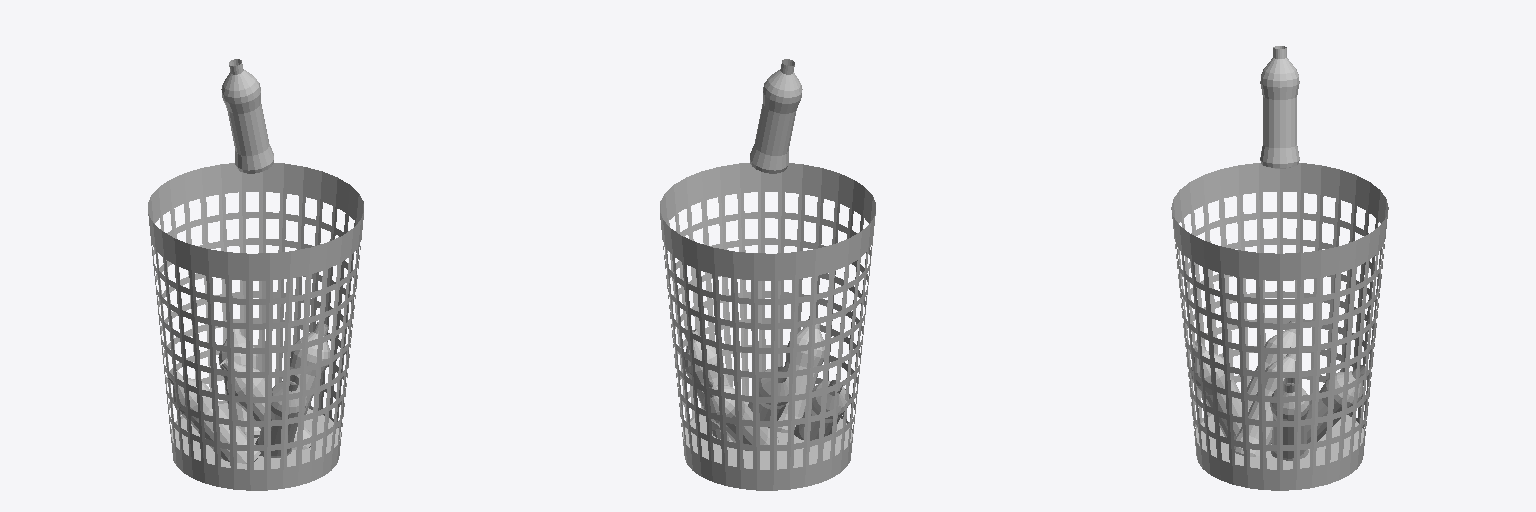
Rendered from DustbinWithCan_000016.obj.
3 views of the same model, side by side, from view 1: azimuth 30°, elevation 25°; view 2: azimuth 150°, elevation 25°; view 3: azimuth 270°, elevation 25° (orthographic).
Parts seen in each view (by area): view 1: Cylinder, Plane.006, Plane.005, Plane.001, Plane.004, Plane.003, Plane.002; view 2: Cylinder, Plane.006, Plane.001, Plane.002, Plane.005, Plane.003, Plane.004; view 3: Cylinder, Plane.006, Plane.001, Plane.003, Plane.004, Plane.002, Plane.005.
Boxes of the visible parts, x1=… form: Cylinder: x1=148, y1=163, x2=363, y2=490; Plane.006: x1=221, y1=59, x2=273, y2=173; Plane.005: x1=167, y1=369, x2=260, y2=463; Plane.001: x1=255, y1=375, x2=306, y2=457; Plane.004: x1=220, y1=357, x2=311, y2=449; Plane.003: x1=282, y1=322, x2=329, y2=414; Plane.002: x1=218, y1=329, x2=260, y2=437; Cylinder: x1=660, y1=163, x2=875, y2=490; Plane.006: x1=750, y1=59, x2=802, y2=173; Plane.001: x1=777, y1=316, x2=824, y2=432; Plane.002: x1=702, y1=381, x2=778, y2=450; Plane.005: x1=794, y1=380, x2=848, y2=440; Plane.003: x1=684, y1=329, x2=731, y2=440; Plane.004: x1=748, y1=366, x2=788, y2=427; Cylinder: x1=1171, y1=163, x2=1388, y2=490; Plane.006: x1=1260, y1=46, x2=1299, y2=168; Plane.001: x1=1191, y1=342, x2=1248, y2=438; Plane.003: x1=1270, y1=378, x2=1309, y2=460; Plane.004: x1=1234, y1=347, x2=1295, y2=456; Plane.002: x1=1307, y1=365, x2=1367, y2=443; Plane.005: x1=1247, y1=321, x2=1295, y2=408.
Size of the model in its own units: 2.6 by 5.27 by 2.6.